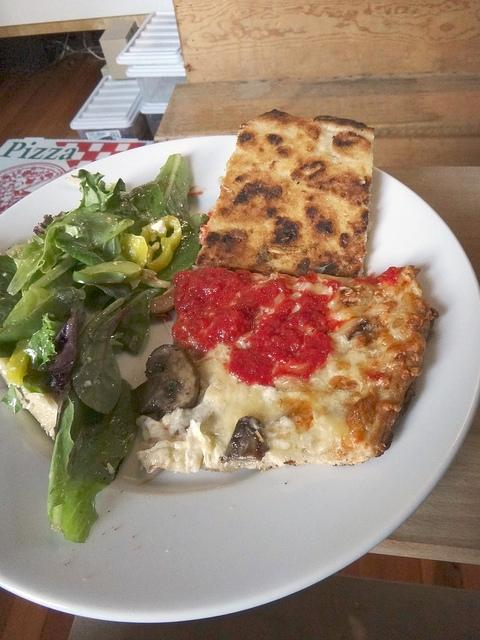mushroom: (130, 344, 200, 420), (220, 416, 270, 464), (151, 286, 175, 321)
